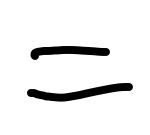eqv: (19, 43, 135, 102)
